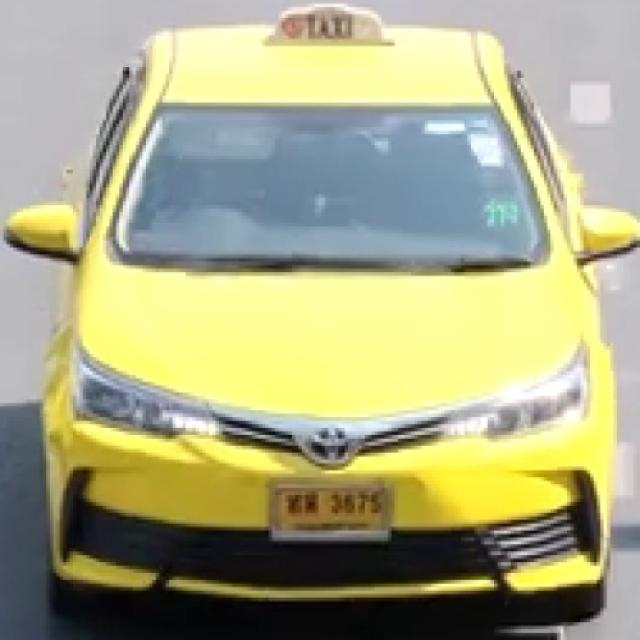plate: (276, 488, 386, 534)
